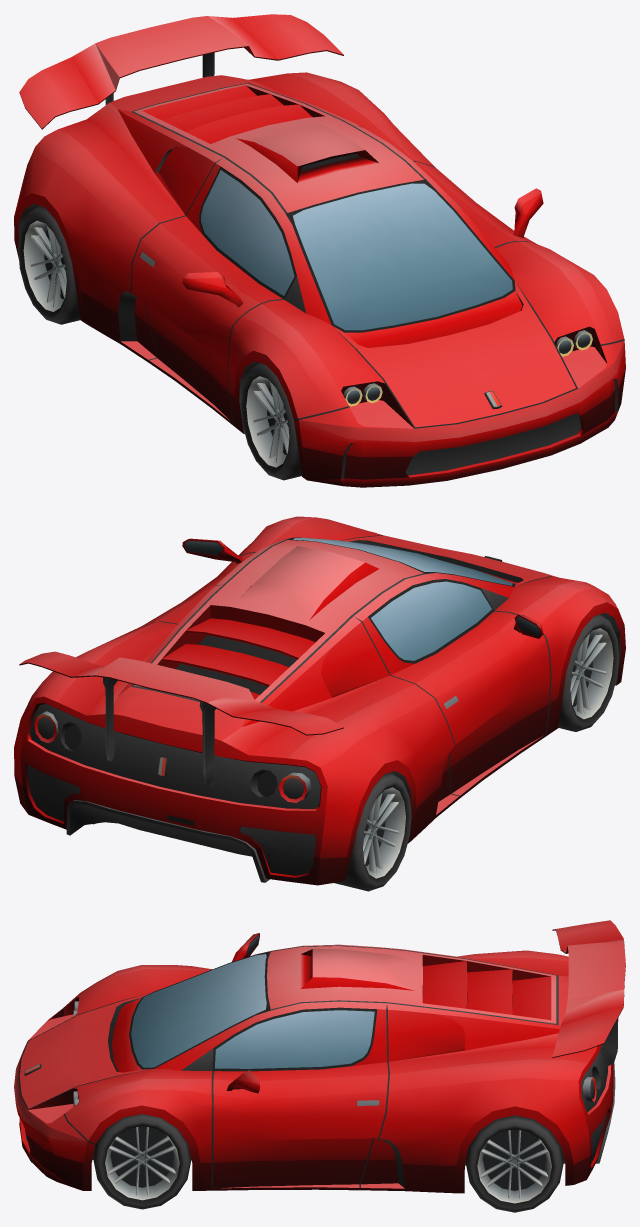
The model's file is key ferrari deneme (2).fbx.
3 views of the same model, one above another, from view 1: azimuth 30°, elevation 25°; view 2: azimuth 150°, elevation 25°; view 3: azimuth 270°, elevation 25° (orthographic). The views are drawn at different scales.
Visible parts, largest first — view 1: Car_20B; view 2: Car_20B; view 3: Car_20B.
Part boxes in pixels (x1,y1,x2,y2): Car_20B: (14, 14, 625, 487); Car_20B: (14, 516, 625, 891); Car_20B: (14, 920, 625, 1212).
Bounding box in the file's own units: 284 × 158 × 484.
Materials: 2 (2 with a texture image).
